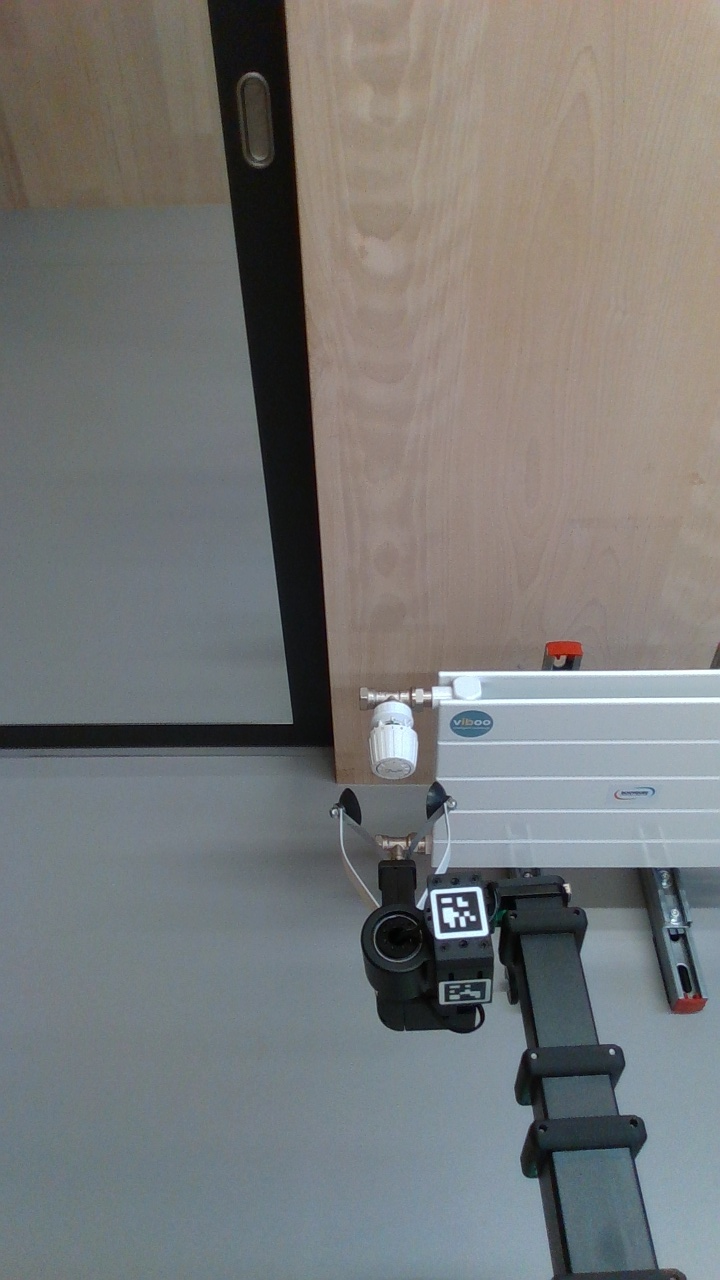Knob_Radiator: (360, 701, 427, 786)
Radiator: (430, 666, 720, 874)
